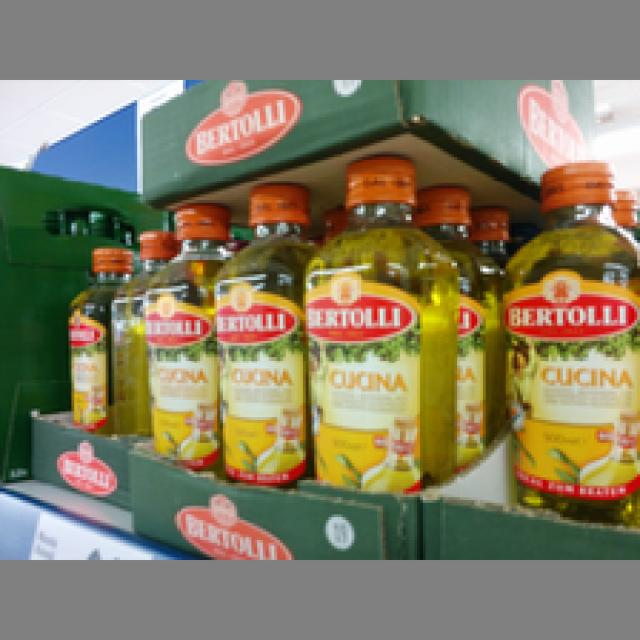groceries: (300, 152, 460, 494), (497, 157, 637, 512), (209, 177, 317, 483), (137, 200, 223, 463)
